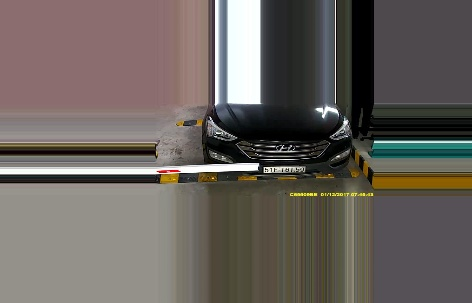plate: (264, 165, 306, 174)
